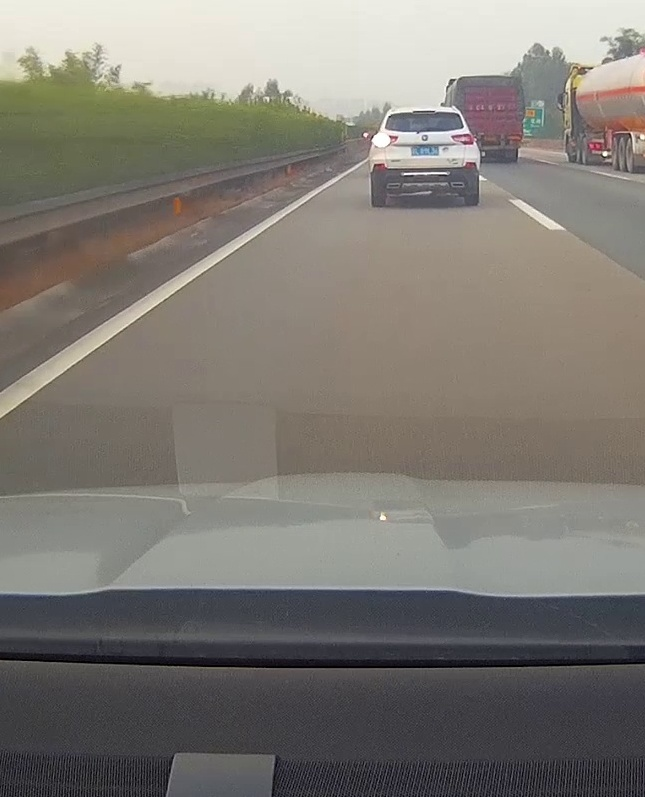L_light: (372, 133, 399, 147)
R_light: (451, 133, 475, 145)
T_light: (413, 110, 435, 113)
day-left: (369, 106, 479, 207)
